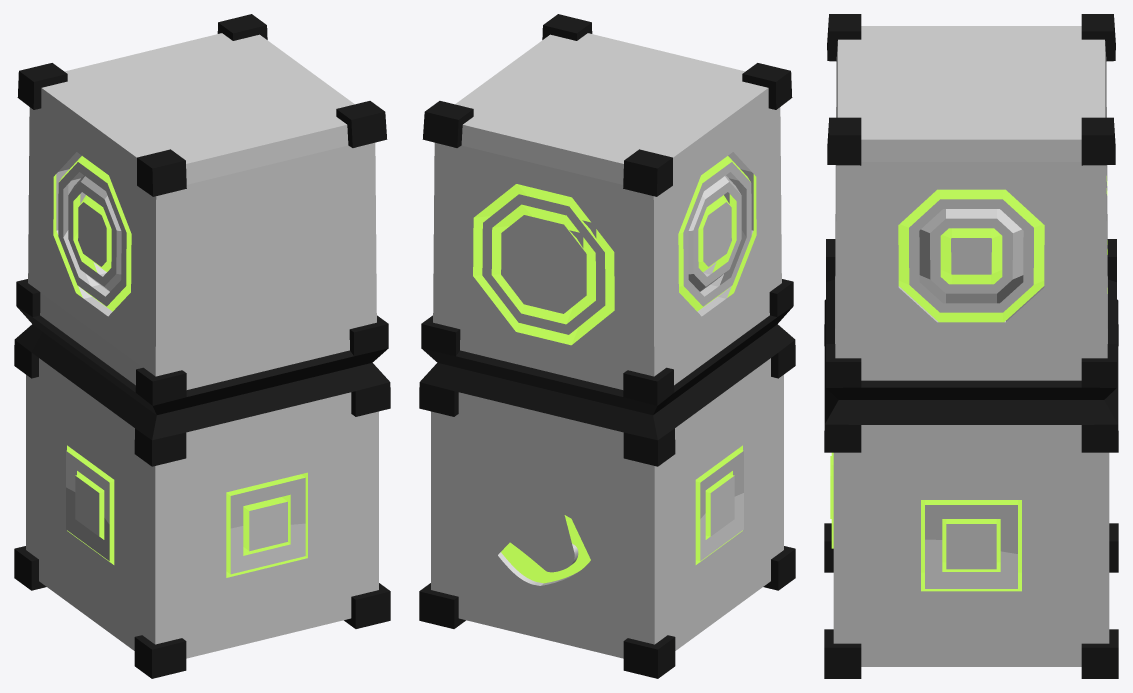
File: Block#2.fbx
3 renders of one model, left to right at view 1: azimuth 30°, elevation 25°; view 2: azimuth 150°, elevation 25°; view 3: azimuth 270°, elevation 25°, orthographic. The views are drawn at different scales.
Parts seen in each view (by area): view 1: Block#2; view 2: Block#2; view 3: Block#2.
Boxes of the visible parts, x1,y1,x2,y2 form: Block#2: (14, 14, 390, 678); Block#2: (419, 14, 795, 678); Block#2: (824, 14, 1118, 678).
Size of the model in its own units: 929 by 1889 by 929.
